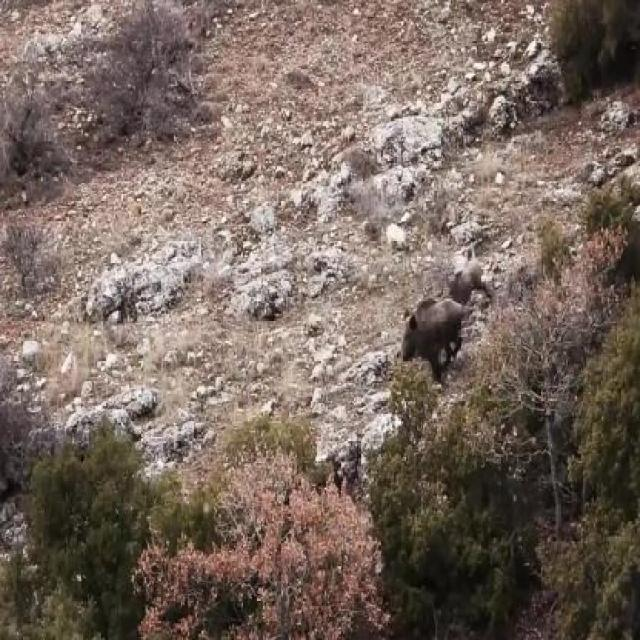pig: (383, 291, 486, 370)
